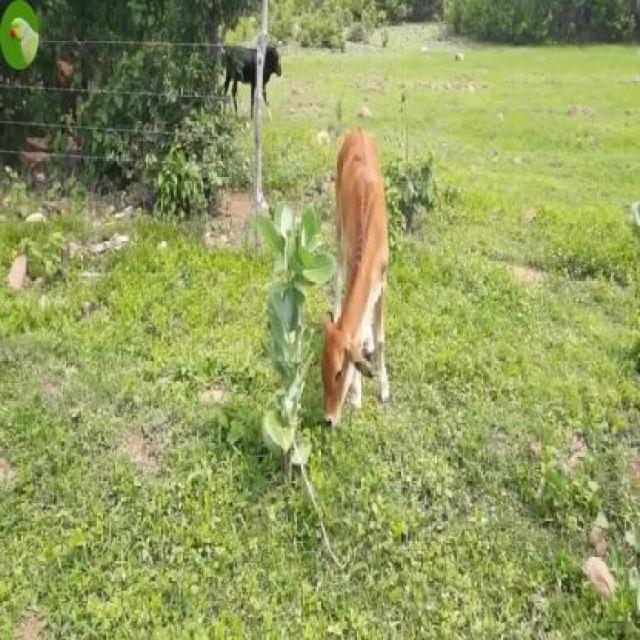Cow: (320, 128, 391, 429)
